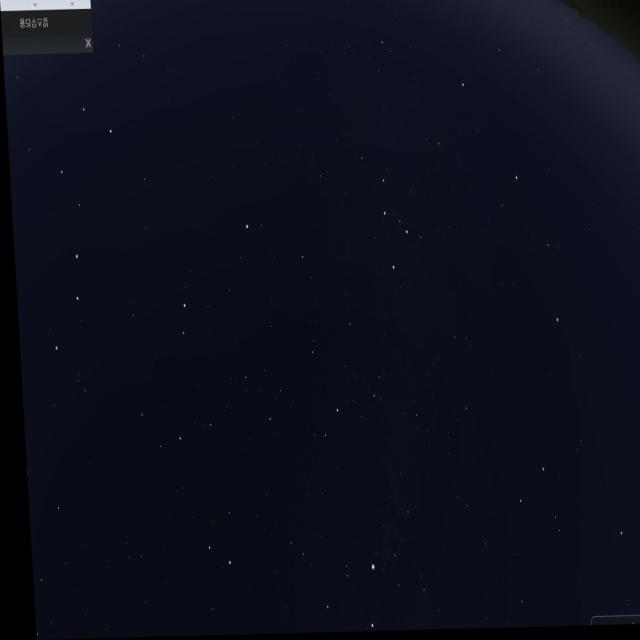cassiopeia: (341, 152, 417, 306)
ursa_major: (29, 100, 124, 367)
